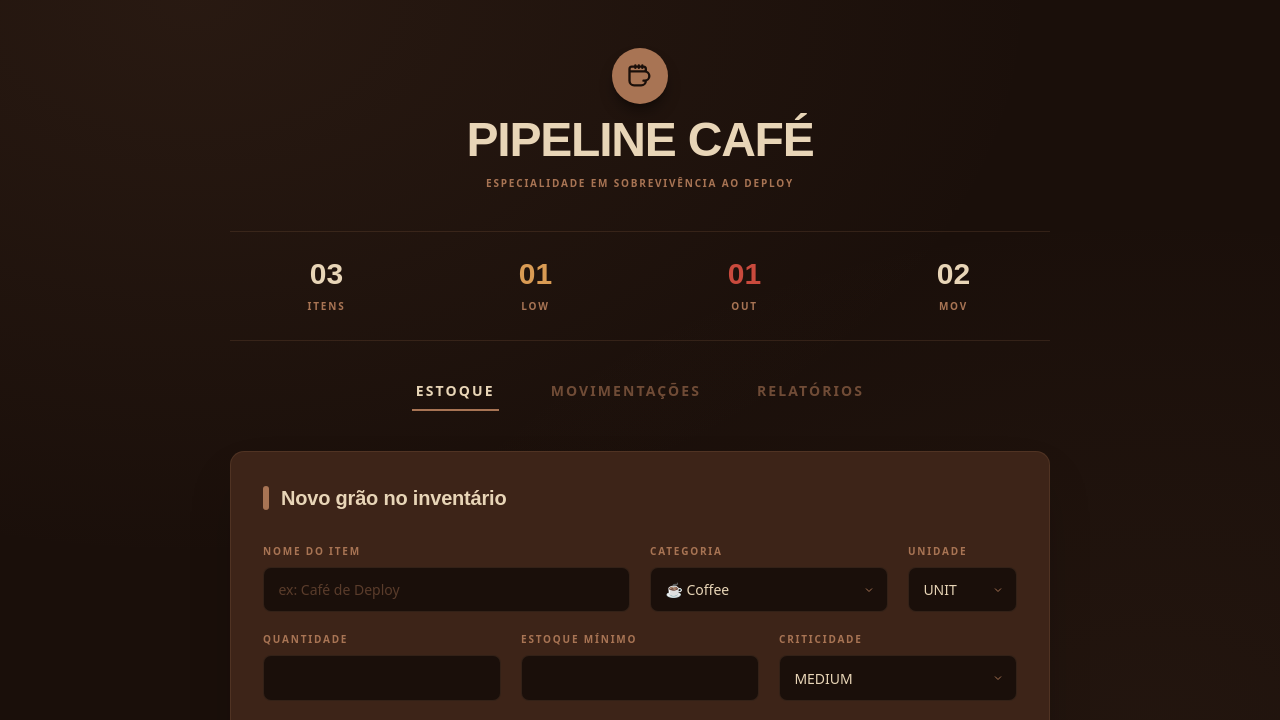
PipelineCafePage › relatórios › exibe relatórios com itens críticos e mensagens vazias
Click the button "Relatórios" at (811, 396), box [753,381,868,411]
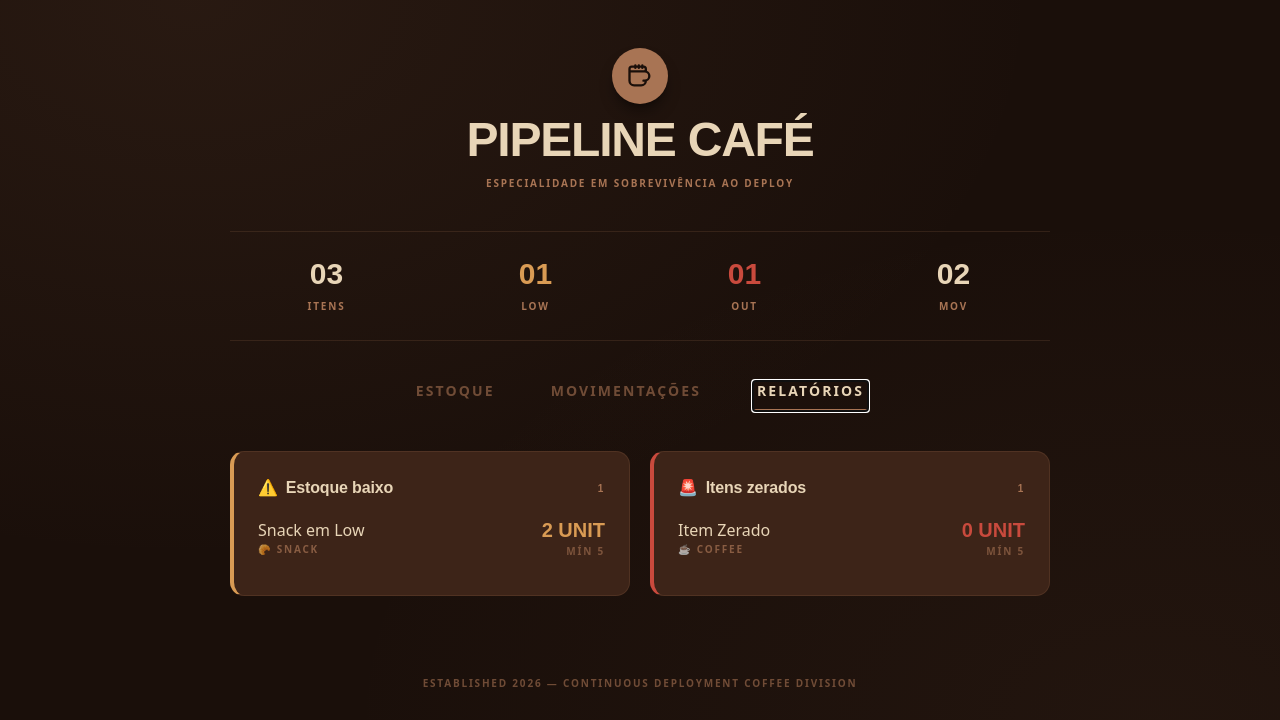
Expected: the text "Snack em Low" is shown, [258,518,364,542]
Result: the heading "⚠️ Estoque baixo 1" is shown at [258,476,605,500]
